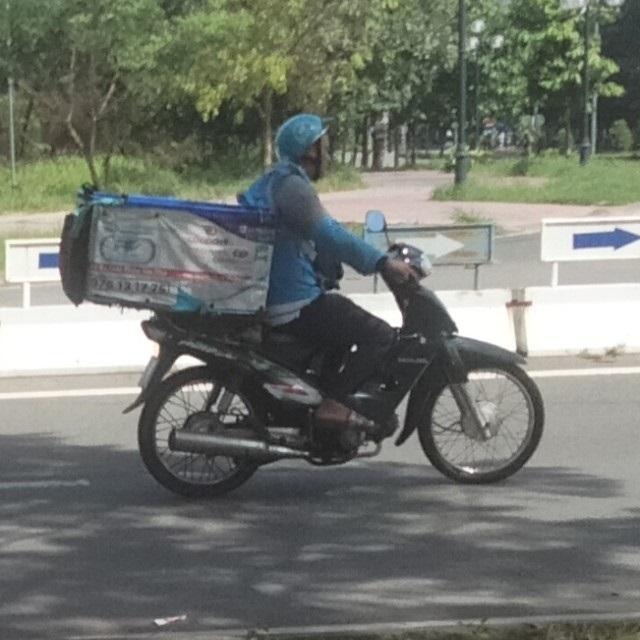Helmet: (274, 111, 326, 179)
